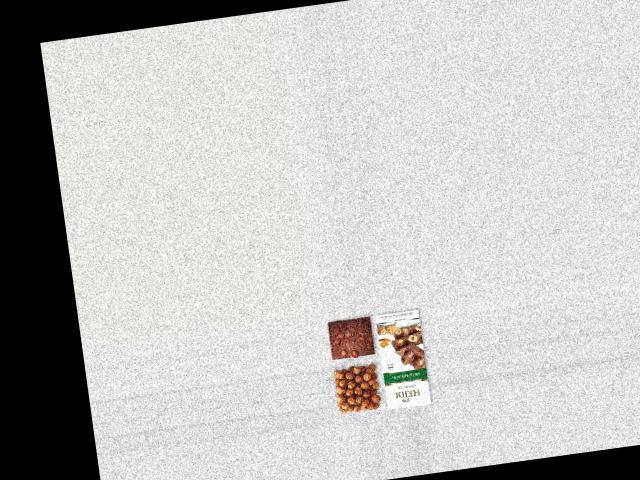chocolate: (322, 314, 377, 361)
